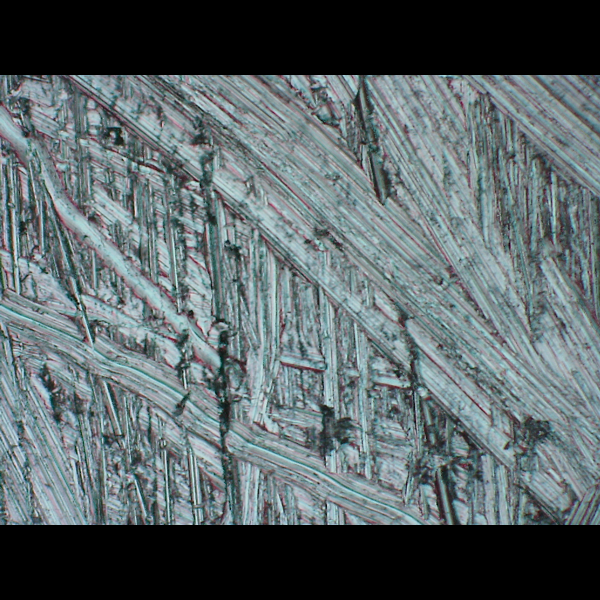d: (5, 75, 599, 520)
